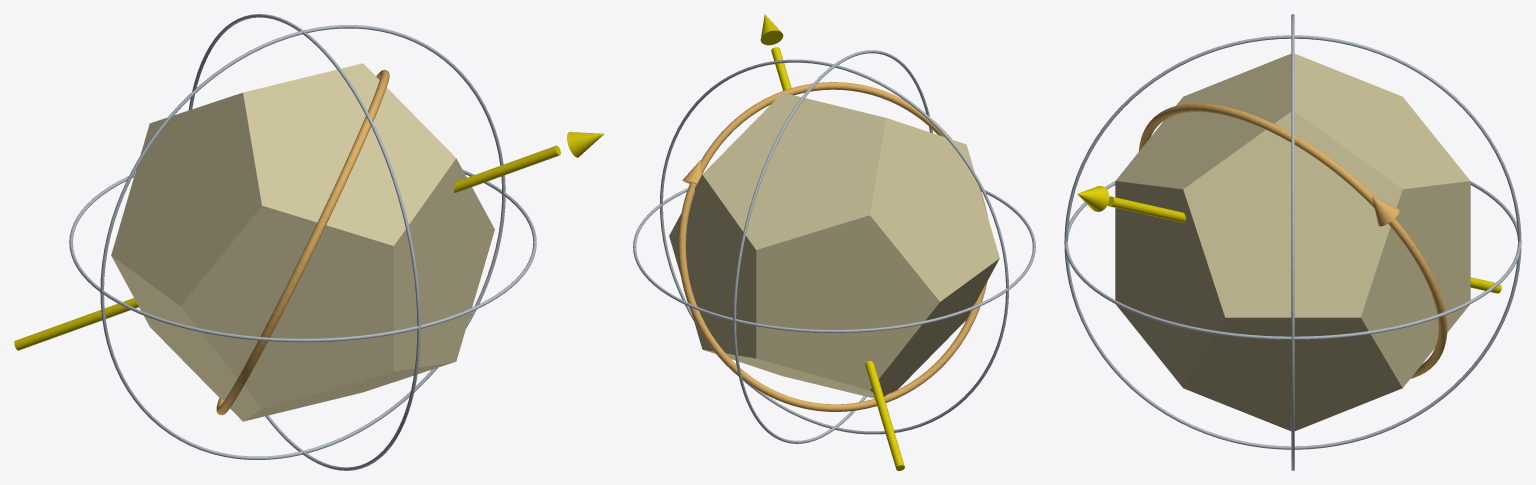
File: dodecahedron_quaternion_axis_angle.glb
3 renders of one model, left to right at view 1: azimuth 30°, elevation 25°; view 2: azimuth 150°, elevation 25°; view 3: azimuth 270°, elevation 25°, orthographic. The views are drawn at different scales.
Parts seen in each view (by area): view 1: g0, g7, g3, g5, g6, g1; view 2: g0, g3, g7, g5, g6, g1, g2; view 3: g0, g5, g3, g6, g7, g1, g2, g4.
Part boxes in pixels (x1=…): g0: x1=111, y1=63, x2=494, y2=421; g7: x1=100, y1=25, x2=505, y2=459; g3: x1=216, y1=69, x2=389, y2=415; g5: x1=188, y1=14, x2=420, y2=470; g6: x1=69, y1=169, x2=536, y2=342; g1: x1=14, y1=145, x2=560, y2=350; g0: x1=669, y1=92, x2=999, y2=398; g3: x1=678, y1=82, x2=987, y2=411; g7: x1=660, y1=59, x2=1008, y2=434; g5: x1=733, y1=50, x2=932, y2=443; g6: x1=633, y1=188, x2=1035, y2=332; g1: x1=771, y1=47, x2=904, y2=470; g2: x1=760, y1=14, x2=783, y2=45; g0: x1=1115, y1=54, x2=1470, y2=430; g5: x1=1064, y1=35, x2=1521, y2=449; g3: x1=1138, y1=103, x2=1447, y2=378; g6: x1=1064, y1=181, x2=1521, y2=339; g7: x1=1291, y1=14, x2=1294, y2=470; g1: x1=1107, y1=196, x2=1501, y2=293; g2: x1=1077, y1=186, x2=1109, y2=211; g4: x1=1372, y1=196, x2=1399, y2=226.
Size of the model in its own units: 3.12 by 3.12 by 3.12.
